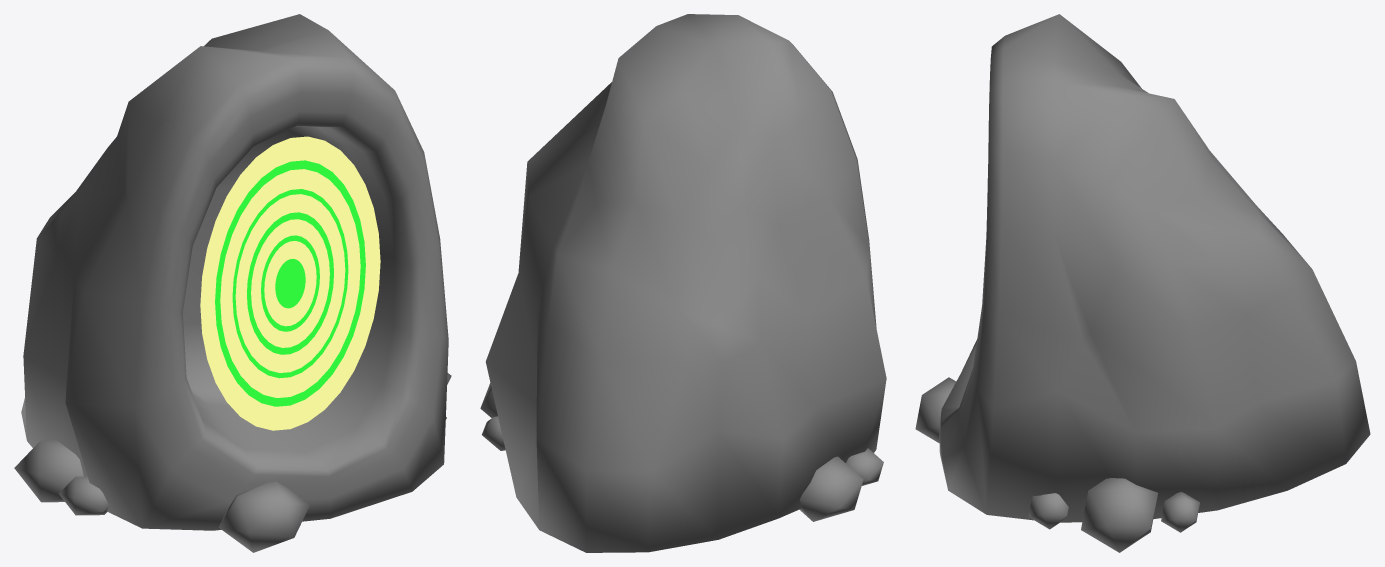
The model's file is ExitPortal.fbx.
3 views of the same model, side by side, from view 1: azimuth 30°, elevation 25°; view 2: azimuth 150°, elevation 25°; view 3: azimuth 270°, elevation 25° (orthographic). The views are drawn at different scales.
Visible parts, largest first — view 1: PortalGreen2; view 2: PortalGreen2; view 3: PortalGreen2.
Part boxes in pixels (x1=…): PortalGreen2: x1=14, y1=14, x2=451, y2=552; PortalGreen2: x1=480, y1=14, x2=886, y2=552; PortalGreen2: x1=915, y1=14, x2=1370, y2=552.
Size of the model in its own units: 201 by 215 by 209.
